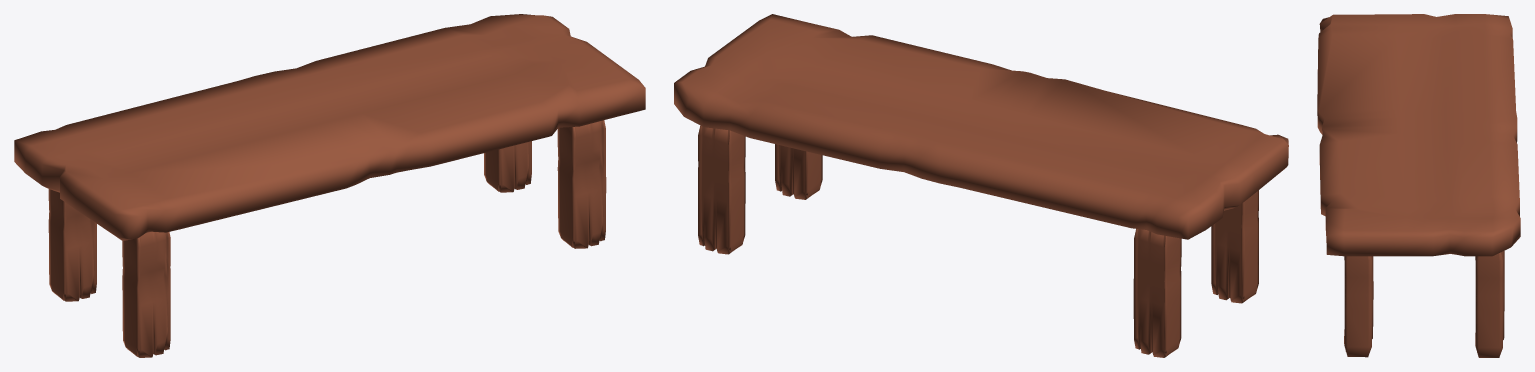
Rendered from Desk2.fbx.
3 renders of one model, left to right at view 1: azimuth 30°, elevation 25°; view 2: azimuth 150°, elevation 25°; view 3: azimuth 270°, elevation 25°, orthographic. The views are drawn at different scales.
Visible parts, largest first — view 1: desk; view 2: desk; view 3: desk.
Boxes of the visible parts, left/top/right/bottom form: desk: left=14, top=14, right=645, bottom=357; desk: left=674, top=14, right=1288, bottom=357; desk: left=1317, top=14, right=1520, bottom=357.
Size of the model in its own units: 424 by 123 by 162.
